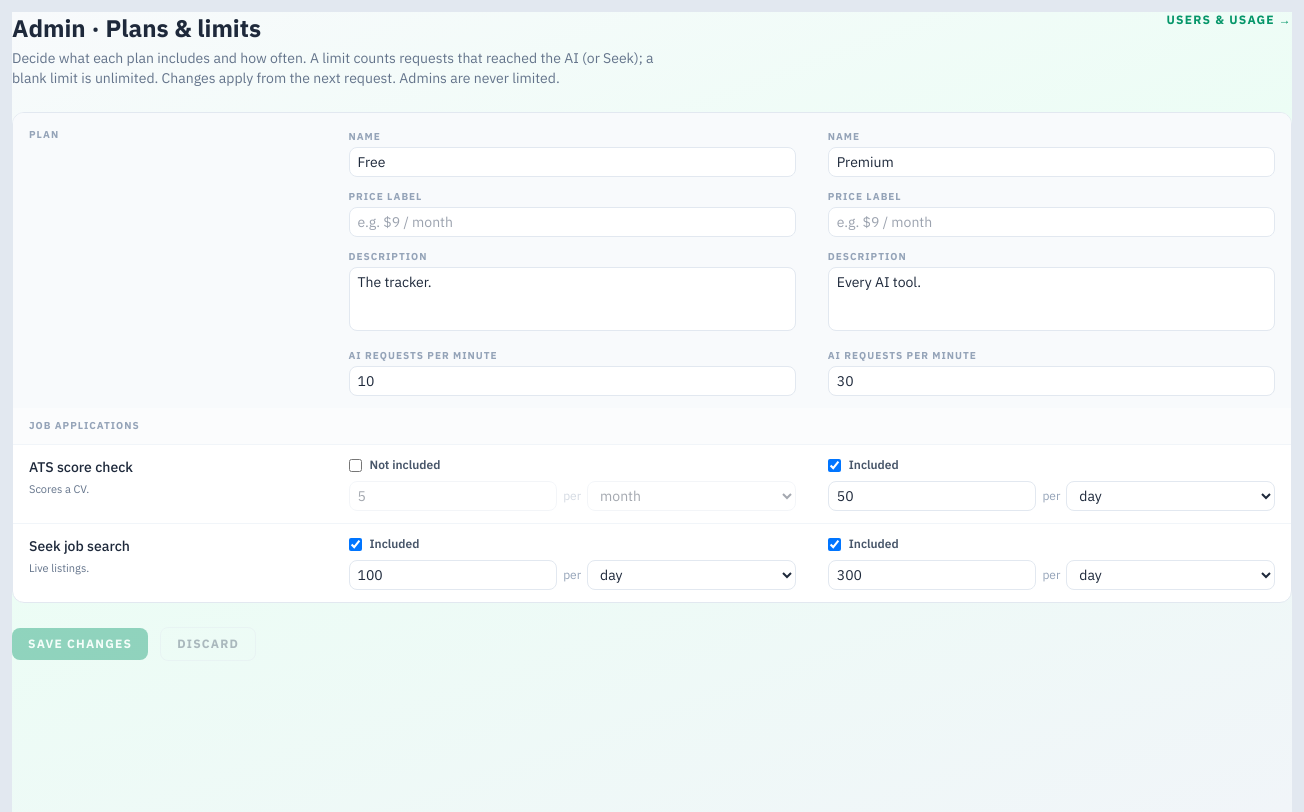
AdminPlansPage › refuses a limit of zero before sending anything
The image size is (1304, 812).
Replace the text in the field named "ATS score check limit on Premium" with "0" at [932, 496], box [828,481,1036,511]
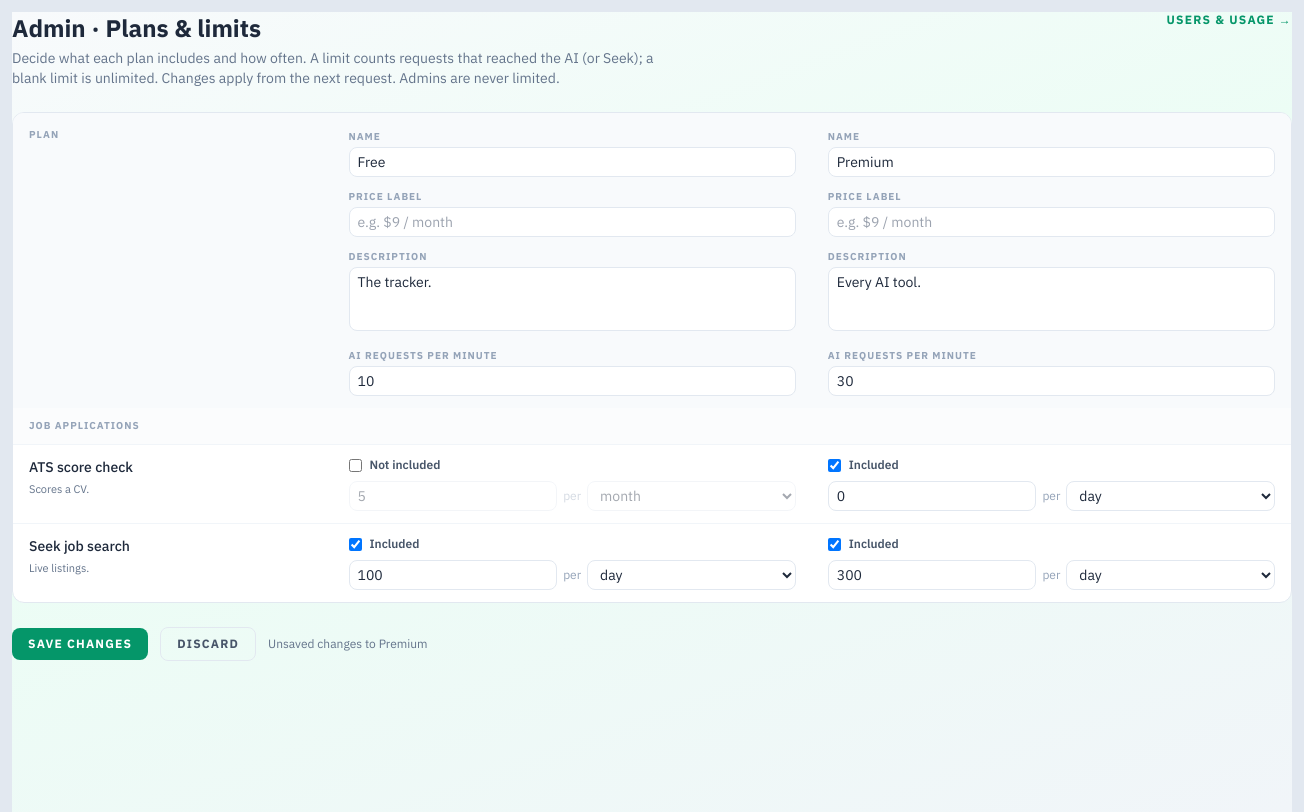
Click the button "Save changes" at [80, 644], box [12,628,148,660]
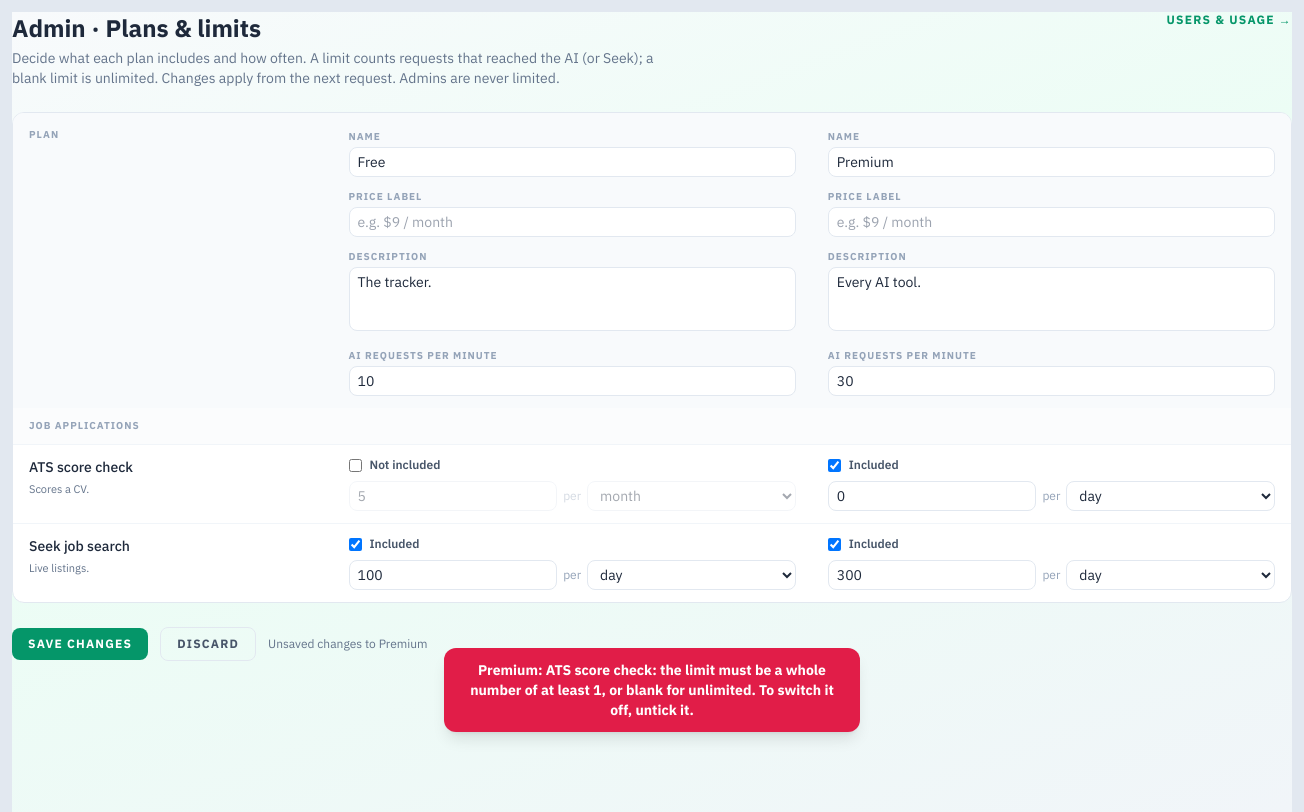
Now the text "ATS score check: the limit must be a whole number" is shown, box [470,661,834,719]
